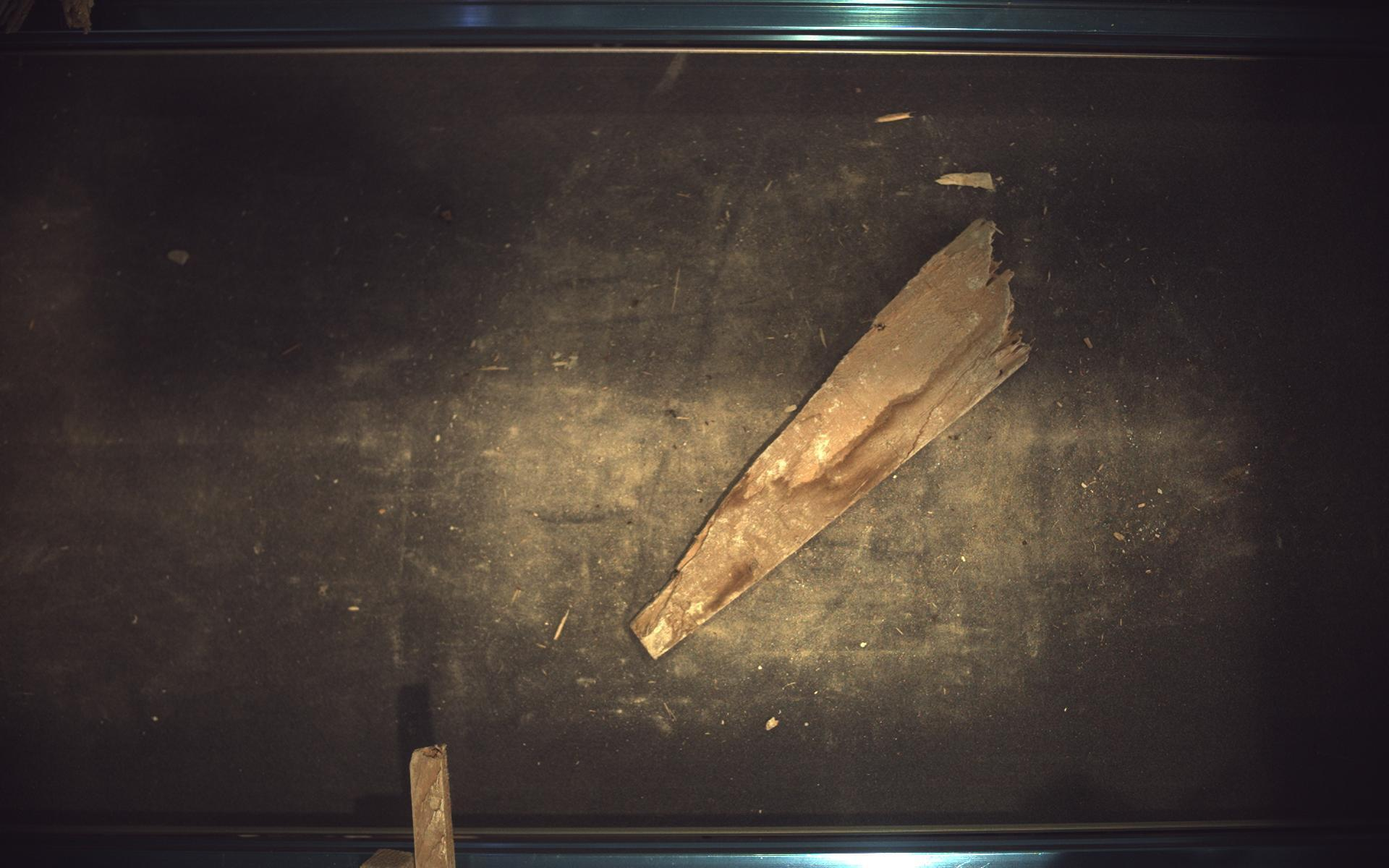wood: (632, 218, 1032, 659), (361, 746, 456, 868)
